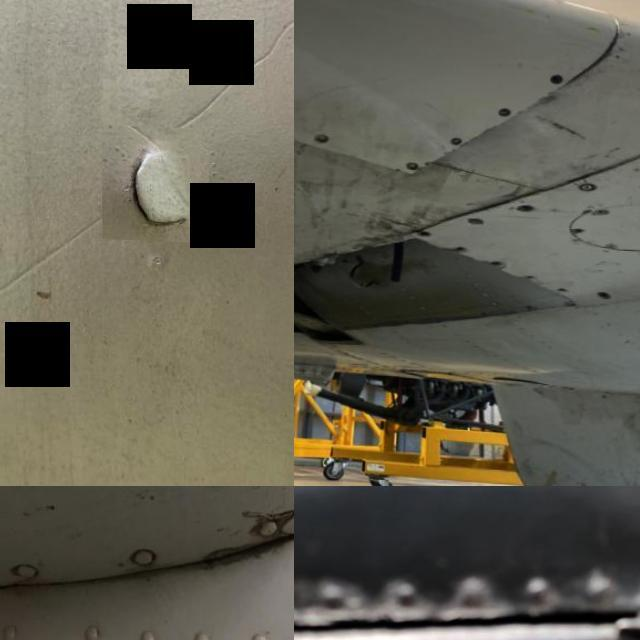Crack: (102, 122, 208, 240), (175, 486, 294, 582)
Missing_Fastener: (495, 102, 515, 116), (403, 156, 422, 170), (311, 132, 333, 144), (445, 132, 466, 144), (546, 68, 564, 82), (594, 285, 612, 297), (518, 200, 534, 208), (416, 228, 432, 236), (454, 241, 466, 251), (489, 256, 504, 264), (557, 282, 568, 290)
